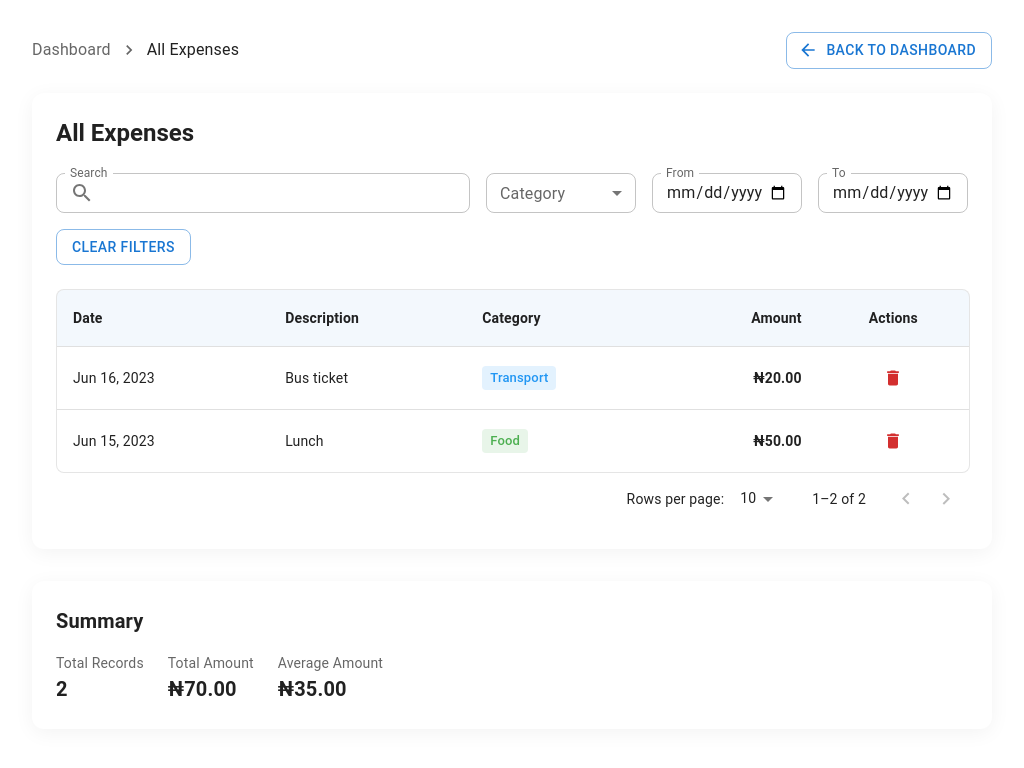
Test: AllExpenses Component › filters expenses by search term
Type "Lunch" into the field labelled "Search" at (286, 192), box x1=102 y1=172 x2=470 y2=212
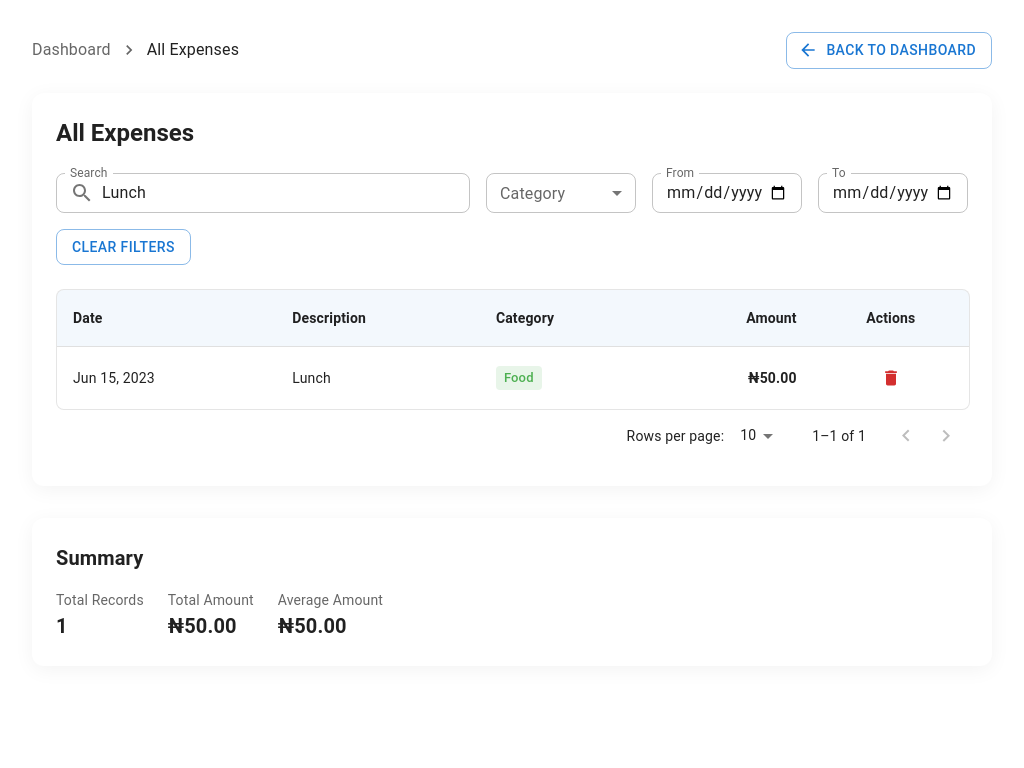
Expected: the text "Lunch" is shown, x1=276 y1=346 x2=480 y2=409
Result: the text "Bus ticket" is gone
